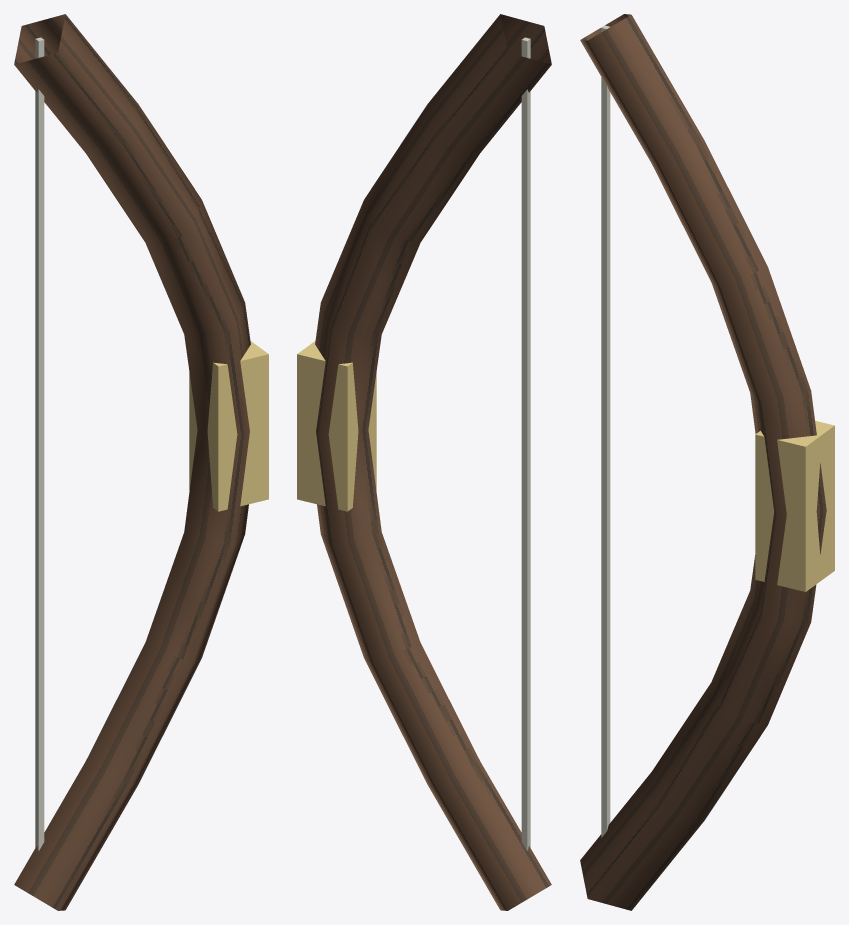
The model's file is bow_tier3.glb.
3 views of the same model, side by side, from view 1: azimuth 30°, elevation 25°; view 2: azimuth 150°, elevation 25°; view 3: azimuth 330°, elevation 25° (orthographic).
Parts seen in each view (by area): view 1: Bow_limb.002, String.002, Grip.005; view 2: Bow_limb.002, String.002, Grip.005; view 3: Bow_limb.002, Grip.005, String.002.
Part boxes in pixels (<box>): Bow_limb.002: <box>14,14,250,910</box>; String.002: <box>35,37,44,850</box>; Grip.005: <box>189,341,268,511</box>; Bow_limb.002: <box>315,14,551,910</box>; String.002: <box>521,37,530,850</box>; Grip.005: <box>297,341,376,511</box>; Bow_limb.002: <box>580,14,826,910</box>; Grip.005: <box>755,420,834,591</box>; String.002: <box>601,25,610,837</box>.
Size of the model in its own units: 0.3908 by 1.36 by 0.1.
3 materials, 1 textured.
